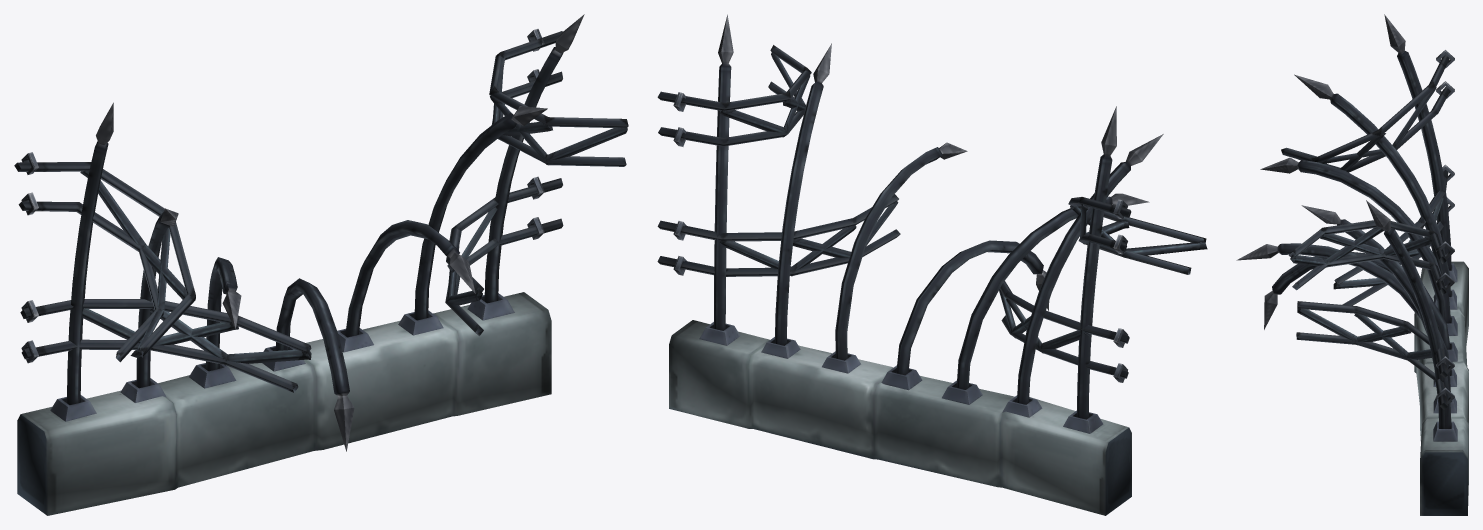
Rendered from env_cem_verja_05.FBX.
3 views of the same model, side by side, from view 1: azimuth 30°, elevation 25°; view 2: azimuth 150°, elevation 25°; view 3: azimuth 270°, elevation 25° (orthographic). The views are drawn at different scales.
Visible parts, largest first — view 1: env_cem_verja_05; view 2: env_cem_verja_05; view 3: env_cem_verja_05.
Part boxes in pixels (x1,y1,x2,y2): env_cem_verja_05: (14, 14, 628, 515); env_cem_verja_05: (657, 14, 1207, 515); env_cem_verja_05: (1236, 14, 1468, 515).
Bounding box in the file's own units: 644 × 477 × 308.
